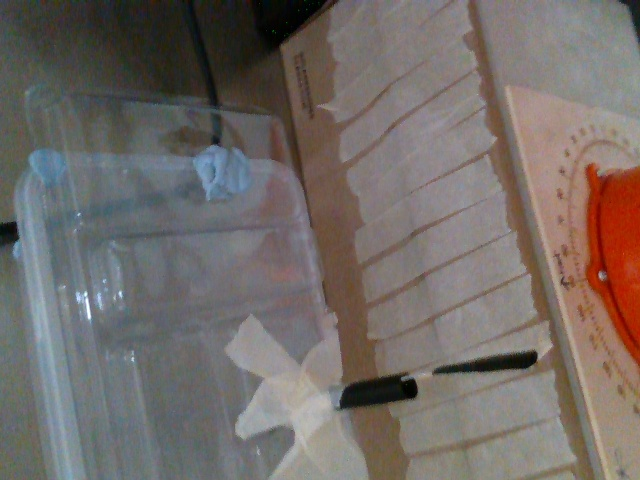test_strip: (398, 350, 535, 380)
